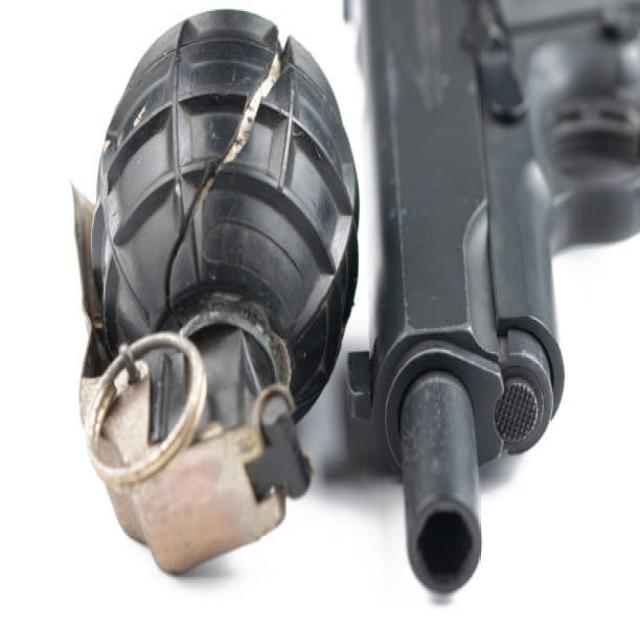grenade: (65, 2, 369, 590)
